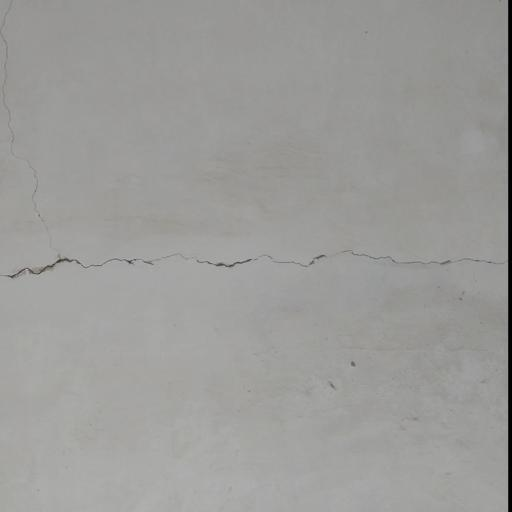minor_crack: (0, 245, 510, 286), (0, 0, 71, 259)
